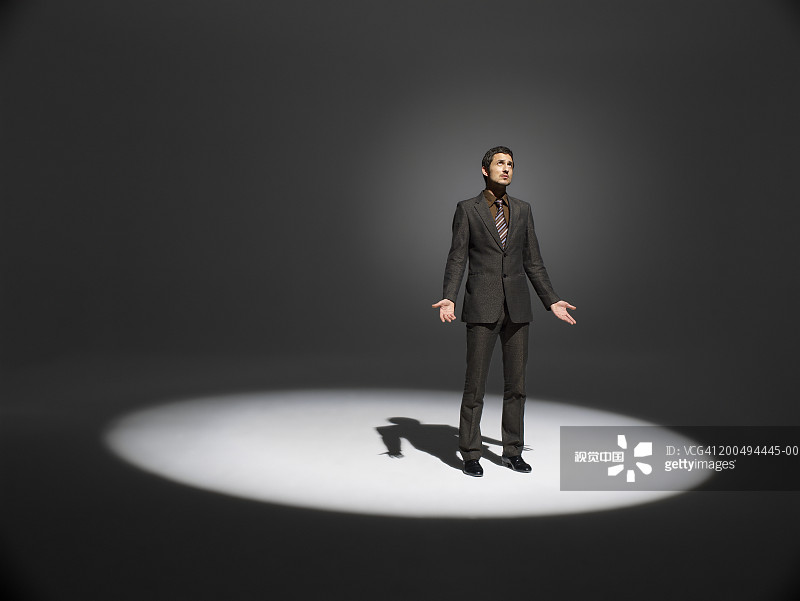no-phone: (537, 286, 588, 333), (422, 290, 463, 335)
